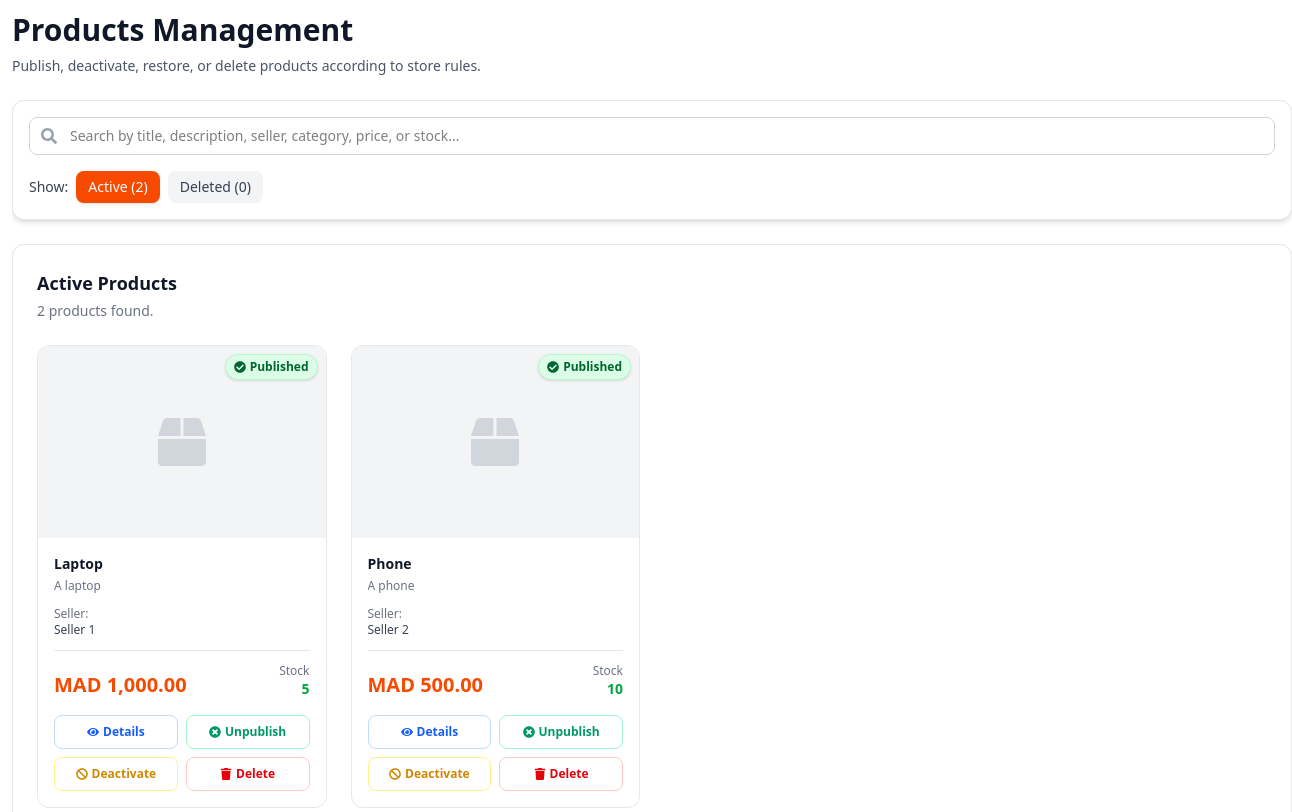
Test: AdminProducts › searches products by title
Replace the text in the field with placeholder "Search by title" with "Laptop": (652, 136) [29, 117, 1275, 155]
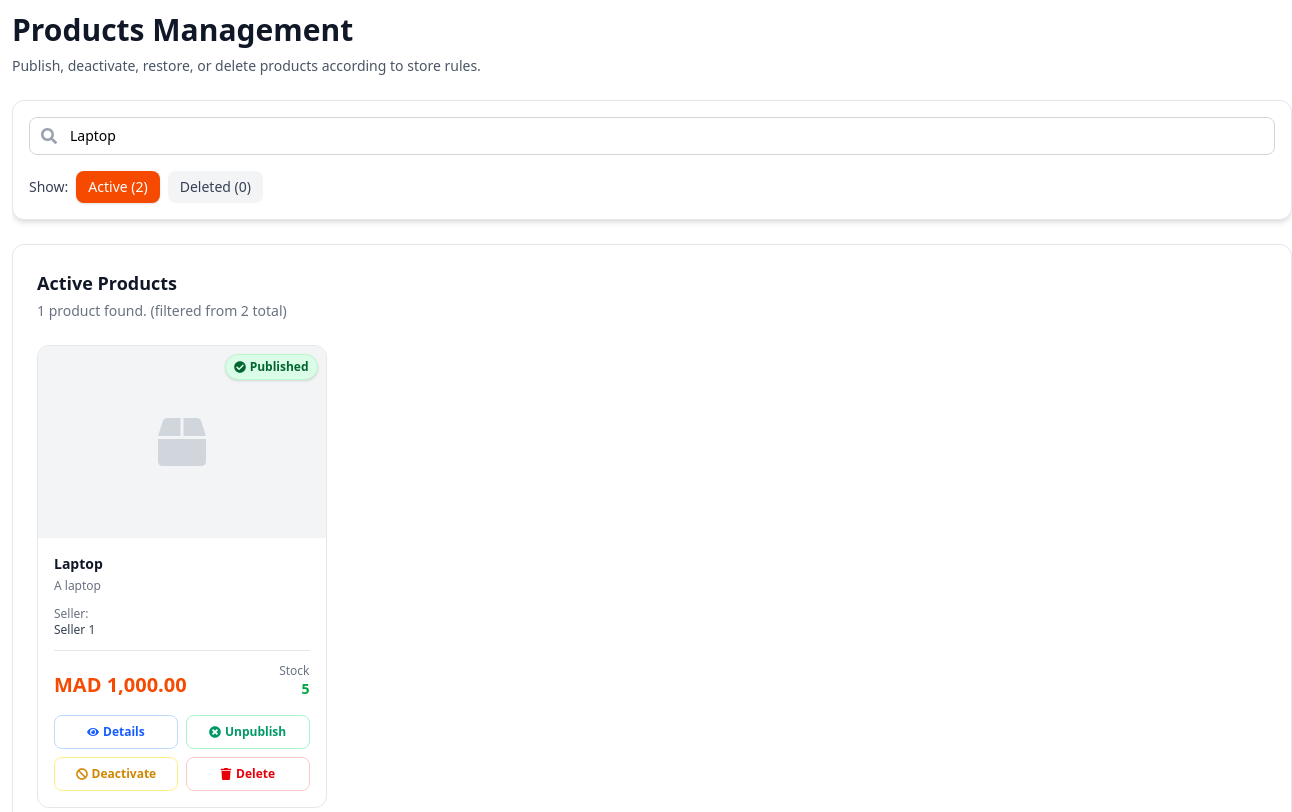
Expected: the heading "Laptop" is shown, [54, 554, 103, 573]
Expected: the heading "Phone" is gone
